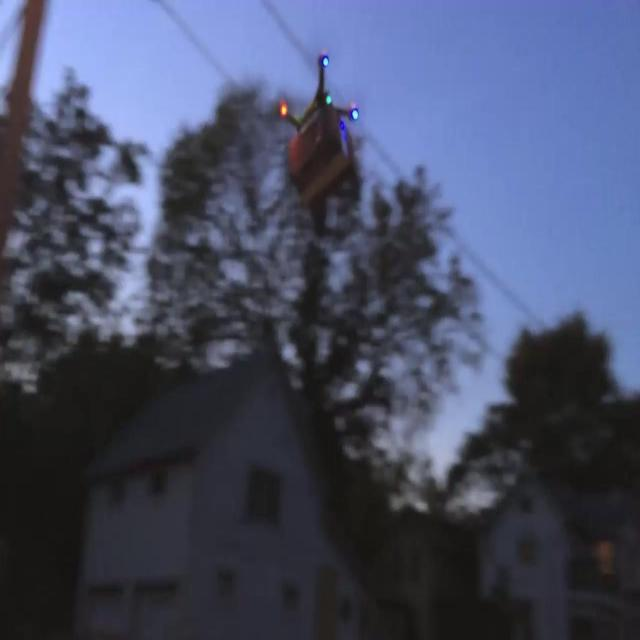drone: (279, 50, 359, 204)
